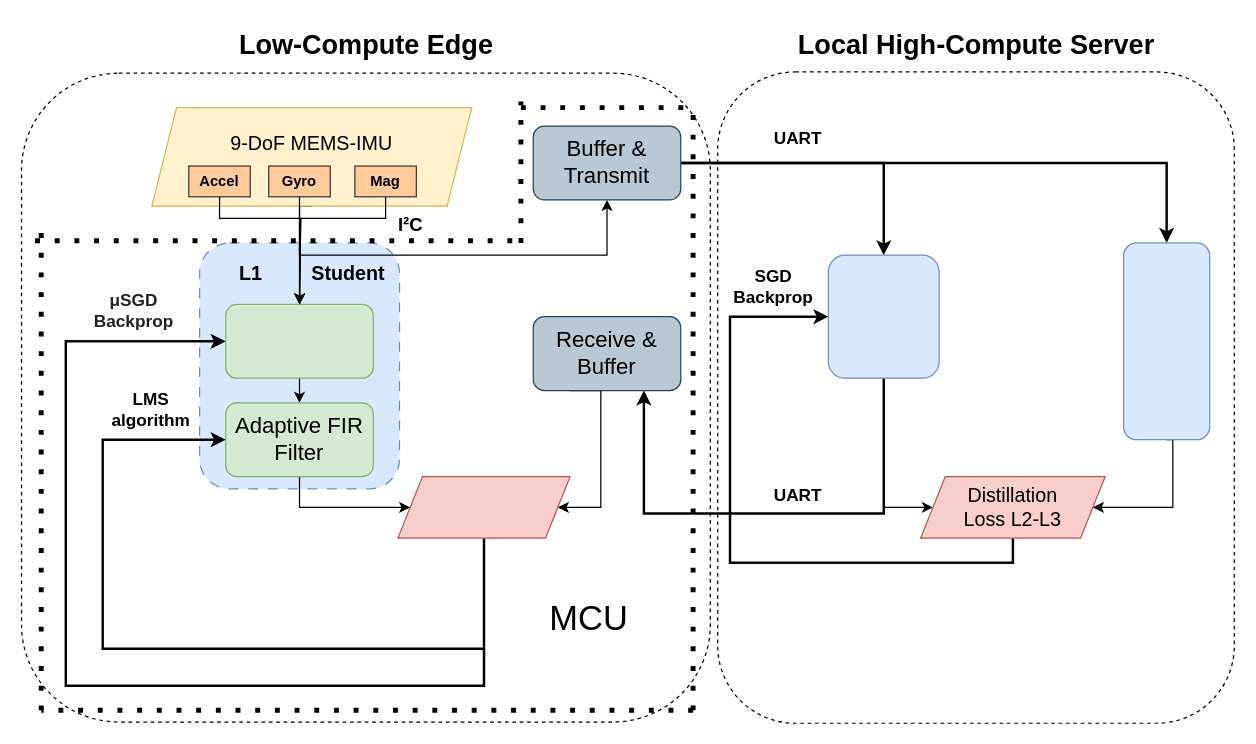
Some shapes in this 1256 by 744 pixel diagram are drawn without their labels. The centre of each missing label's shape, as x and y in pixels:
"Differentiable ANN Filter" belongs at point (298, 340).
"Distillation Loss L1-L2" belongs at point (483, 506).
"L2 Teacher Assistant LoRA" belongs at point (883, 316).
"L3 Teacher DNN" belongs at point (1166, 341).
